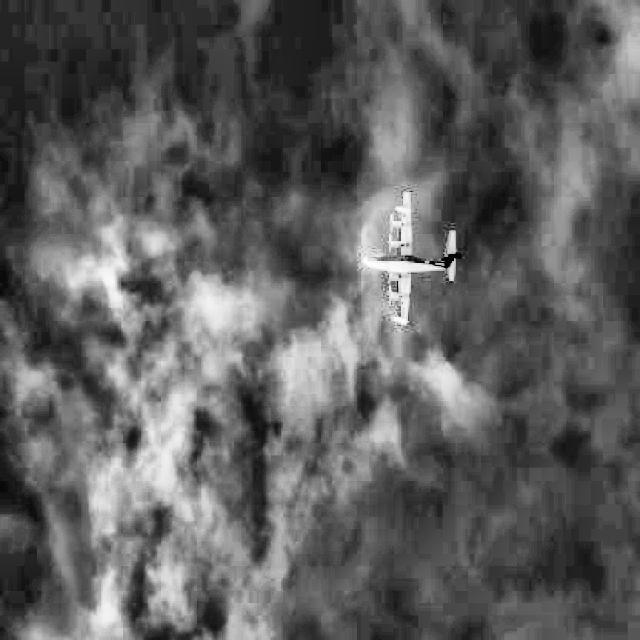US2: (362, 190, 462, 325)
